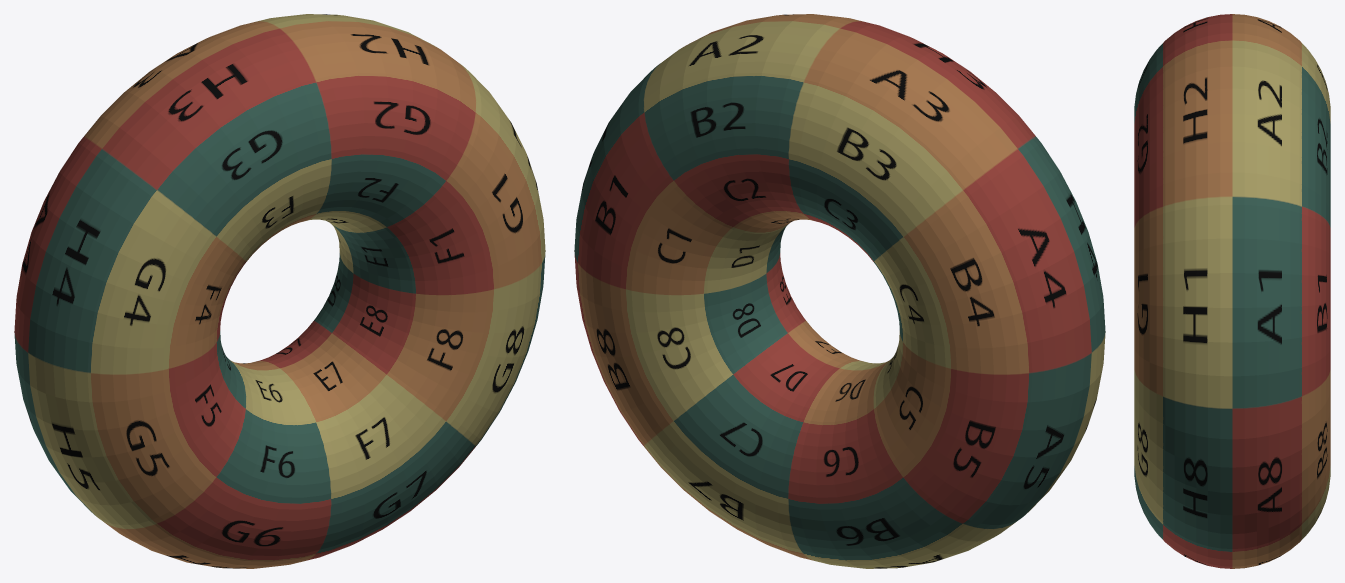
File: texture_torus_R8_r24.glb
3 renders of one model, left to right at view 1: azimuth 30°, elevation 25°; view 2: azimuth 150°, elevation 25°; view 3: azimuth 270°, elevation 25°, orthographic. The views are drawn at different scales.
Visible parts, largest first — view 1: world; view 2: world; view 3: world.
Boxes of the visible parts, <box> form: world: <box>14,14,545,568</box>; world: <box>574,14,1105,568</box>; world: <box>1134,14,1330,568</box>.
Bounding box in the file's own units: 23.73 × 23.69 × 8.38.
Materials: 1 (1 with a texture image).
